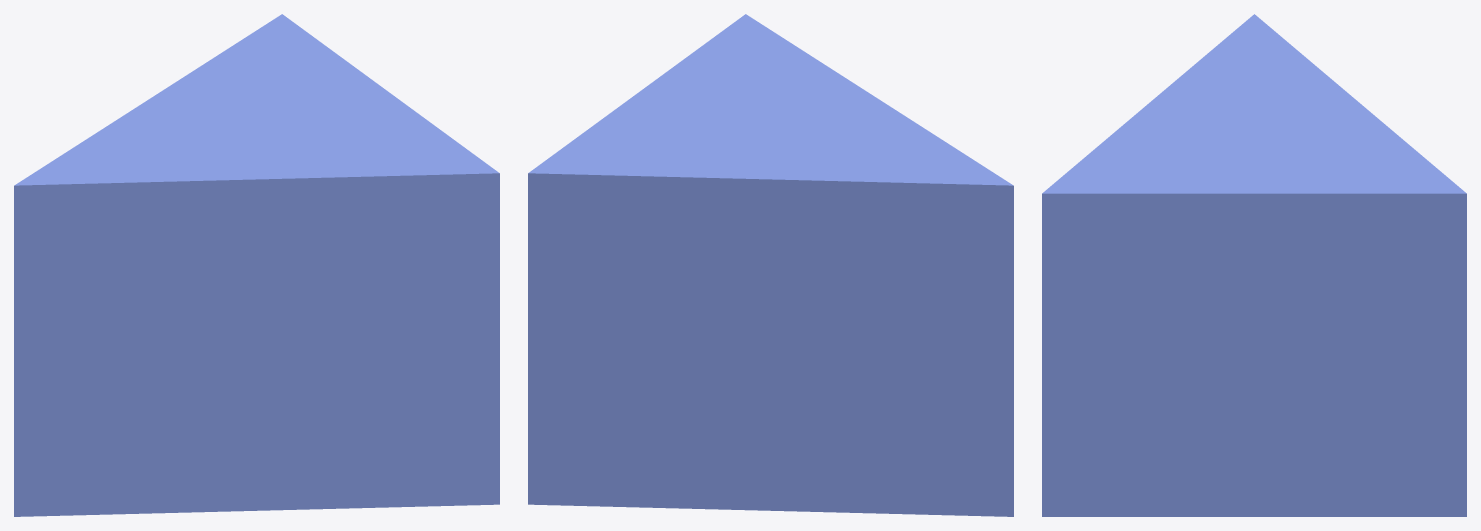
The model's file is arrow.glb.
The picture shows the model from 3 angles, left to right: view 1: azimuth 30°, elevation 25°; view 2: azimuth 150°, elevation 25°; view 3: azimuth 270°, elevation 25°; orthographic projection. The views are drawn at different scales.
Parts seen in each view (by area): view 1: roof; view 2: roof; view 3: roof.
Part boxes in pixels (x1=…): roof: x1=14, y1=14, x2=499, y2=516; roof: x1=528, y1=14, x2=1013, y2=516; roof: x1=1042, y1=14, x2=1466, y2=516.
Bounding box in the file's own units: 2.5 × 2.1 × 2.5.
